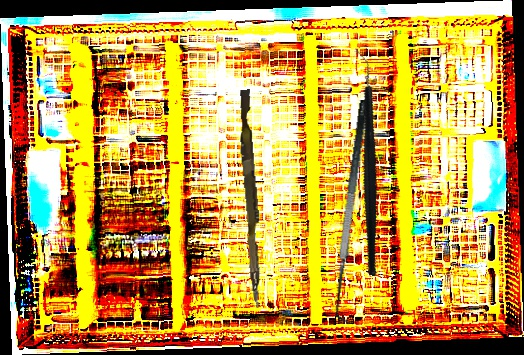Chopper: (285, 47, 445, 277)
Pusher: (233, 89, 270, 309)
Spatula Surgical: (324, 99, 388, 324)
